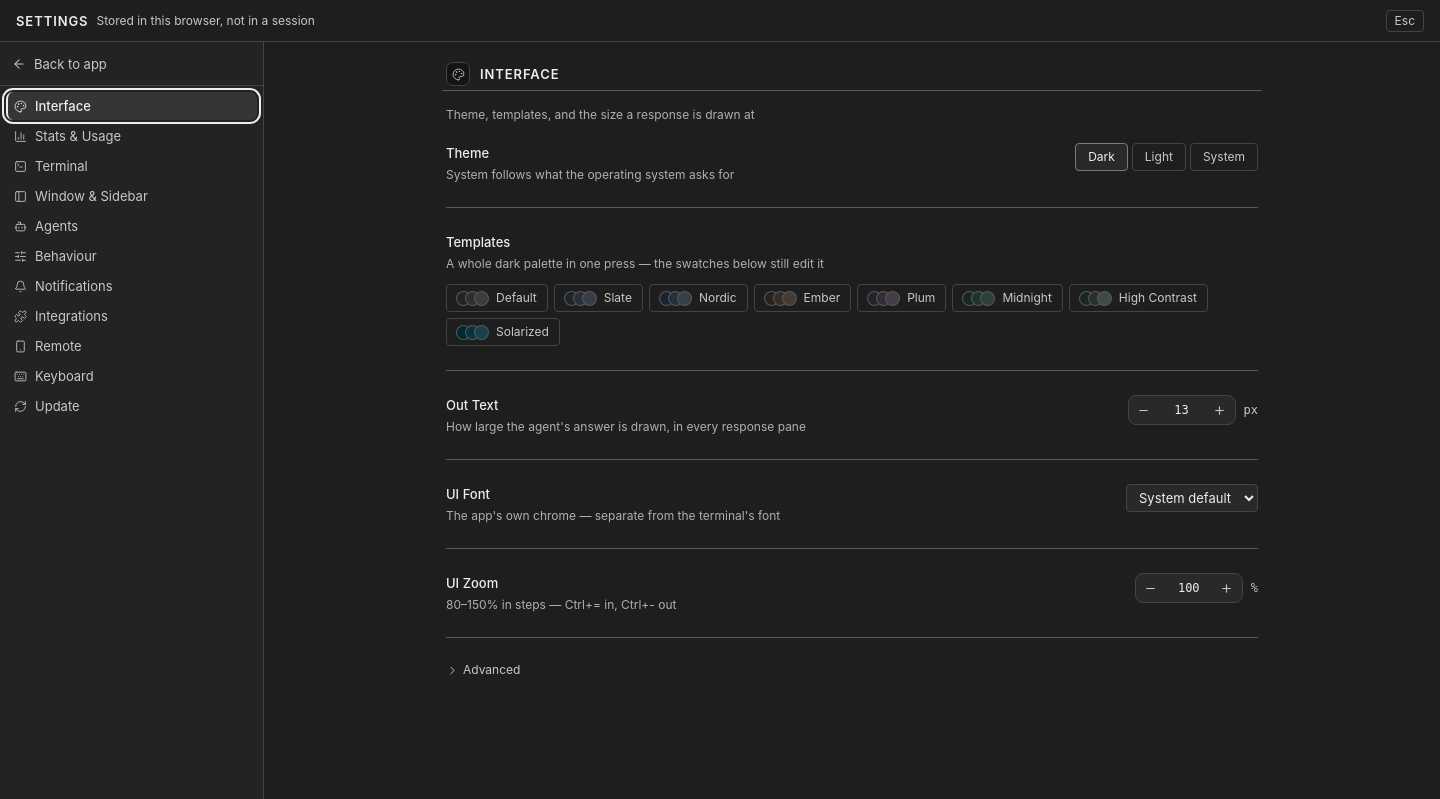
Test: the overlay draws a focus indicator › rings the three controls in the keyboard card that had none
Click the button "Keyboard" at (132, 376), box [6, 362, 257, 390]
(page scrolled)
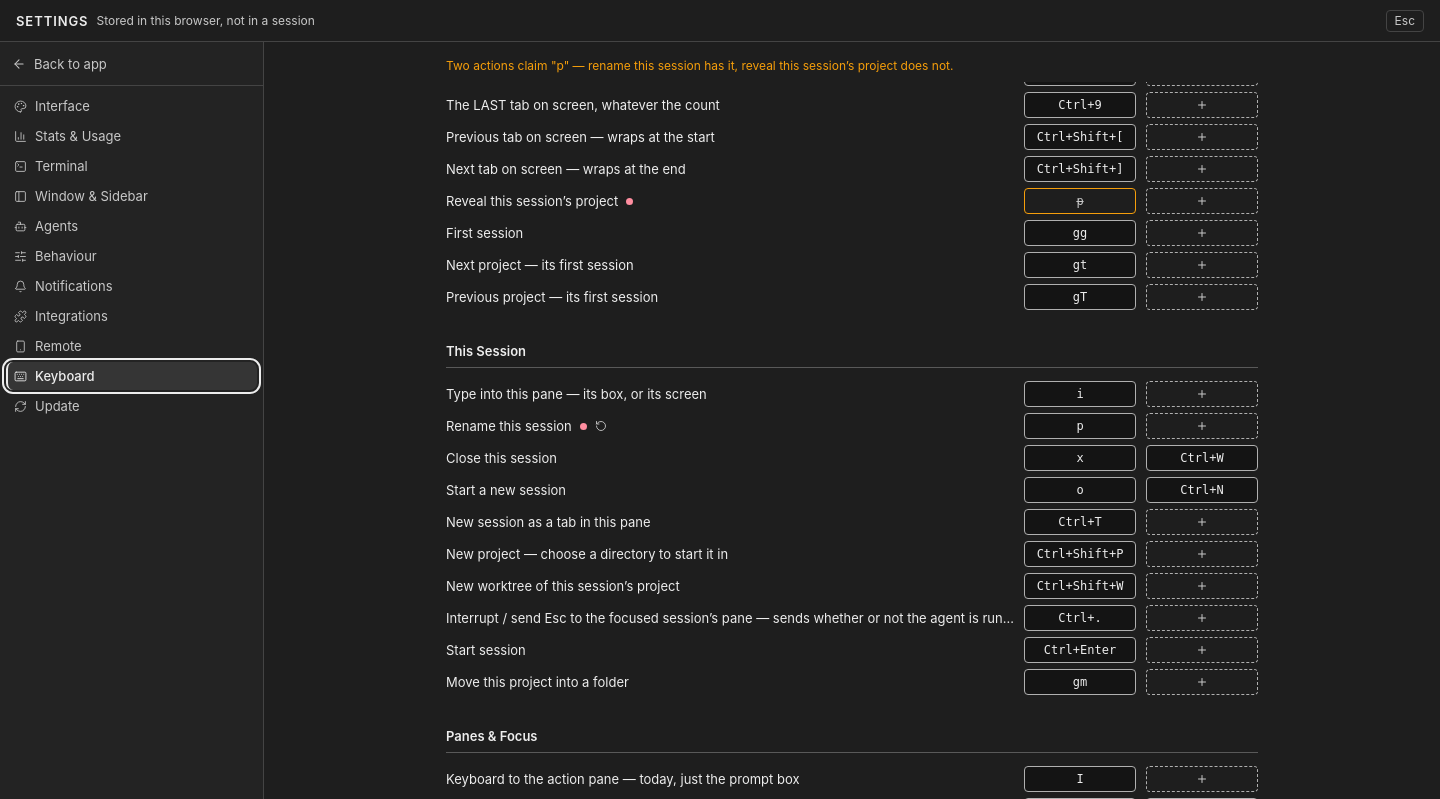
Expected: the 2nd button "p" is shown, [1024, 413, 1136, 439]
Expected: the button named "reset rename this session shortcut" is shown, [595, 420, 607, 432]
